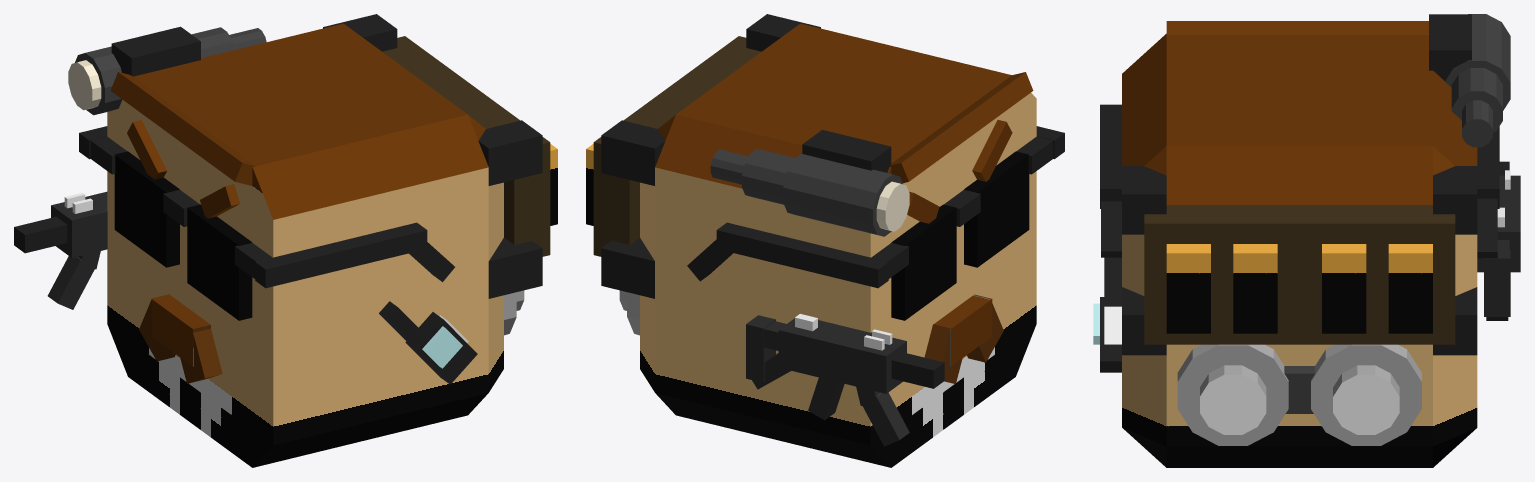
Rendered from playersmg.gltf.
3 views of the same model, side by side, from view 1: azimuth 30°, elevation 25°; view 2: azimuth 150°, elevation 25°; view 3: azimuth 270°, elevation 25° (orthographic). The views are drawn at different scales.
Parts seen in each view (by area): view 1: beveled_cuboid, cube (×25), tube (×2); view 2: beveled_cuboid, cube (×26), tube (×3); view 3: beveled_cuboid, cube (×21), tube (×7).
Part boxes in pixels (x1,y1,x2,y2): beveled_cuboid: [107, 23, 503, 467]; cube (×25): [14, 14, 557, 384]; tube (×2): [68, 27, 234, 115]; beveled_cuboid: [640, 23, 1036, 467]; cube (×26): [586, 14, 1064, 446]; tube (×3): [710, 148, 909, 236]; beveled_cuboid: [1122, 33, 1477, 467]; cube (×21): [1100, 14, 1520, 413]; tube (×7): [1177, 14, 1510, 445].
Bounding box in the file's own units: 1.33 × 1.06 × 1.2.
4 materials, 4 textured.
